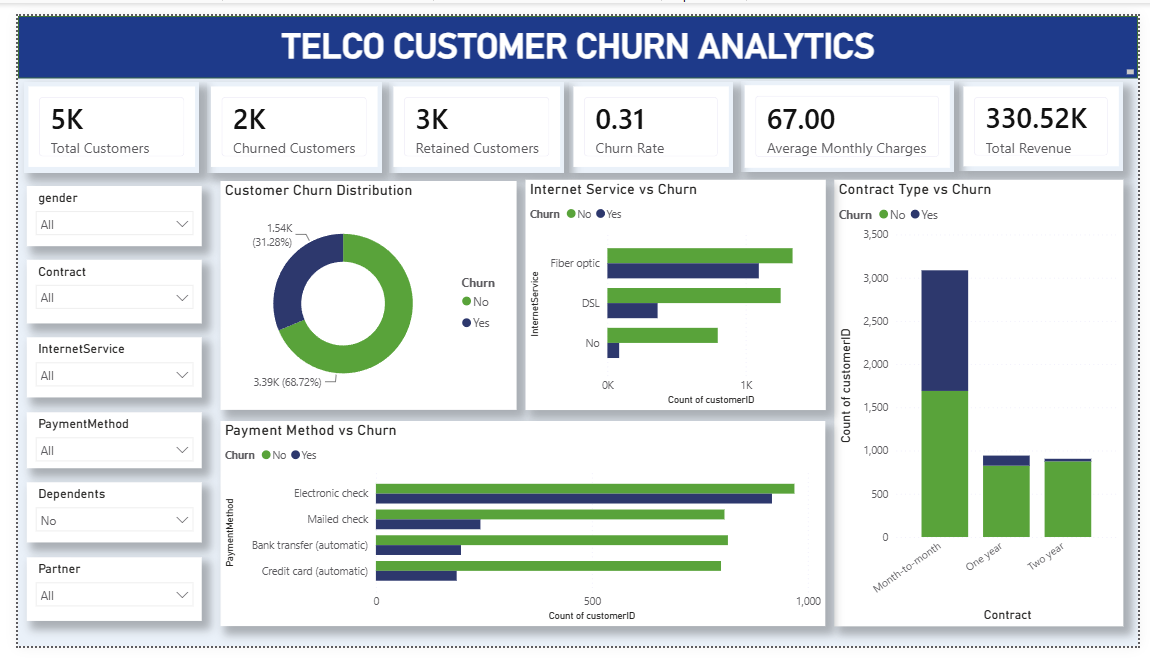

The page's visual inventory and layout, read from the dashboard file:
{"tool":"powerbi","page":{"name":"Page 1","canvas":[1280,720],"ordinal":0},"visuals":[{"type":"cardVisual","fields":{"Data":["Telco_Customer_Churn_Cleaned.Total Customers"]},"box":[7.1,75.7,200,102.9],"z":1},{"type":"cardVisual","fields":{"Data":["Telco_Customer_Churn_Cleaned.Churned Customers"]},"box":[215.7,75.7,200,102.9],"z":2},{"type":"cardVisual","fields":{"Data":["Telco_Customer_Churn_Cleaned.Retained Customers"]},"box":[424.3,75.7,200,102.9],"z":3},{"type":"cardVisual","fields":{"Data":["Telco_Customer_Churn_Cleaned.Churn Rate"]},"box":[630,75.7,187.1,102.9],"z":4},{"type":"cardVisual","fields":{"Data":["Telco_Customer_Churn_Cleaned.Average Monthly Charges"]},"box":[825.7,74.3,244.3,104.3],"z":5},{"type":"cardVisual","fields":{"Data":["Telco_Customer_Churn_Cleaned.Total Revenue"]},"box":[1075.7,75.7,187.1,101.4],"z":6},{"type":"donutChart","title":"Customer Churn Distribution","fields":{"Category":["Telco_Customer_Churn_Cleaned.Churn"],"Y":["CountNonNull(Telco_Customer_Churn_Cleaned.customerID)"]},"box":[231.4,188.6,338.6,261.4],"z":7},{"type":"columnChart","title":"Contract Type vs Churn","fields":{"Category":["Telco_Customer_Churn_Cleaned.Contract"],"Series":["Telco_Customer_Churn_Cleaned.Churn"],"Y":["CountNonNull(Telco_Customer_Churn_Cleaned.customerID)"]},"box":[932.9,187.1,330,510],"z":9},{"type":"clusteredBarChart","title":"Internet Service vs Churn","fields":{"Category":["Telco_Customer_Churn_Cleaned.InternetService"],"Y":["CountNonNull(Telco_Customer_Churn_Cleaned.customerID)"],"Series":["Telco_Customer_Churn_Cleaned.Churn"]},"box":[580,187.1,342.9,262.9],"z":10},{"type":"clusteredBarChart","title":"Payment Method vs Churn","fields":{"Category":["Telco_Customer_Churn_Cleaned.PaymentMethod"],"Y":["CountNonNull(Telco_Customer_Churn_Cleaned.customerID)"],"Series":["Telco_Customer_Churn_Cleaned.Churn"]},"box":[231.4,462.9,691.4,234.3],"z":11},{"type":"slicer","fields":{"Values":["Telco_Customer_Churn_Cleaned.gender"]},"box":[10,194.3,200,68.6],"z":12},{"type":"slicer","fields":{"Values":["Telco_Customer_Churn_Cleaned.Contract"]},"box":[10,278.6,200,72.9],"z":13},{"type":"slicer","fields":{"Values":["Telco_Customer_Churn_Cleaned.InternetService"]},"box":[10,367.1,200,68.6],"z":14},{"type":"slicer","fields":{"Values":["Telco_Customer_Churn_Cleaned.PaymentMethod"]},"box":[10,452.9,200,64.3],"z":15},{"type":"slicer","fields":{"Values":["Telco_Customer_Churn_Cleaned.Dependents"]},"box":[10,532.9,200,68.6],"z":16},{"type":"slicer","fields":{"Values":["Telco_Customer_Churn_Cleaned.Partner"]},"box":[10,618.6,200,72.9],"z":17},{"type":"shape","box":[0,0,1280,74.3],"z":18},{"type":"textbox","title":"TELCO CUSTOMER CHURN ANALYTICS","box":[0,13.3,1280,60],"z":19}]}

Visuals, with their boxes in screenshot pixels (x1, y1, x2, y2):
cardVisual - Telco_Customer_Churn_Cleaned.Total Customers: 12:76:189:167
cardVisual - Telco_Customer_Churn_Cleaned.Churned Customers: 197:76:374:167
cardVisual - Telco_Customer_Churn_Cleaned.Retained Customers: 382:76:559:167
cardVisual - Telco_Customer_Churn_Cleaned.Churn Rate: 564:76:730:167
cardVisual - Telco_Customer_Churn_Cleaned.Average Monthly Charges: 738:75:954:167
cardVisual - Telco_Customer_Churn_Cleaned.Total Revenue: 959:76:1125:166
"Customer Churn Distribution" donutChart: 211:176:511:408
"Contract Type vs Churn" columnChart: 833:175:1125:627
"Internet Service vs Churn" clusteredBarChart: 520:175:824:408
"Payment Method vs Churn" clusteredBarChart: 211:419:824:627
slicer - Telco_Customer_Churn_Cleaned.gender: 15:181:192:242
slicer - Telco_Customer_Churn_Cleaned.Contract: 15:256:192:320
slicer - Telco_Customer_Churn_Cleaned.InternetService: 15:334:192:395
slicer - Telco_Customer_Churn_Cleaned.PaymentMethod: 15:410:192:467
slicer - Telco_Customer_Churn_Cleaned.Dependents: 15:481:192:542
slicer - Telco_Customer_Churn_Cleaned.Partner: 15:557:192:622
shape: 6:9:1140:75
"TELCO CUSTOMER CHURN ANALYTICS" textbox: 6:21:1140:74
